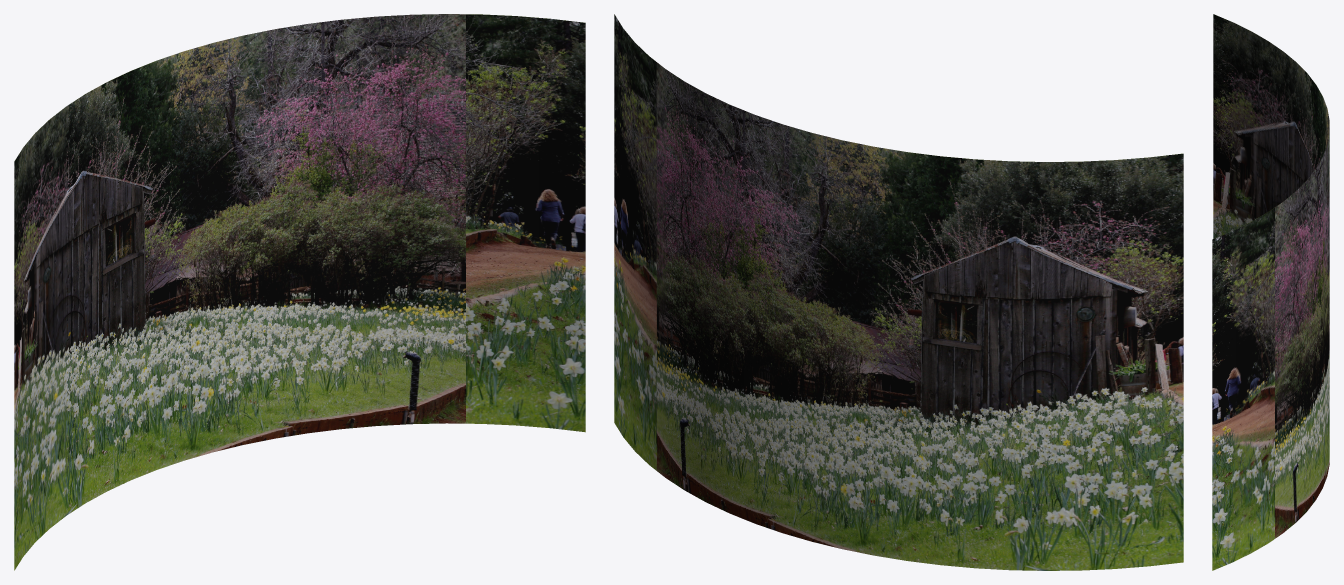
3 renders of one model, left to right at view 1: azimuth 30°, elevation 25°; view 2: azimuth 150°, elevation 25°; view 3: azimuth 270°, elevation 25°, orthographic. The views are drawn at different scales.
Visible parts, largest first — view 1: 窗景; view 2: 窗景; view 3: 窗景.
Boxes of the visible parts, x1,y1,x2,y2 form: 窗景: (14,14,585,570); 窗景: (614,14,1183,570); 窗景: (1212,14,1329,570).
Size of the model in its own units: 4056 by 2782 by 893.
